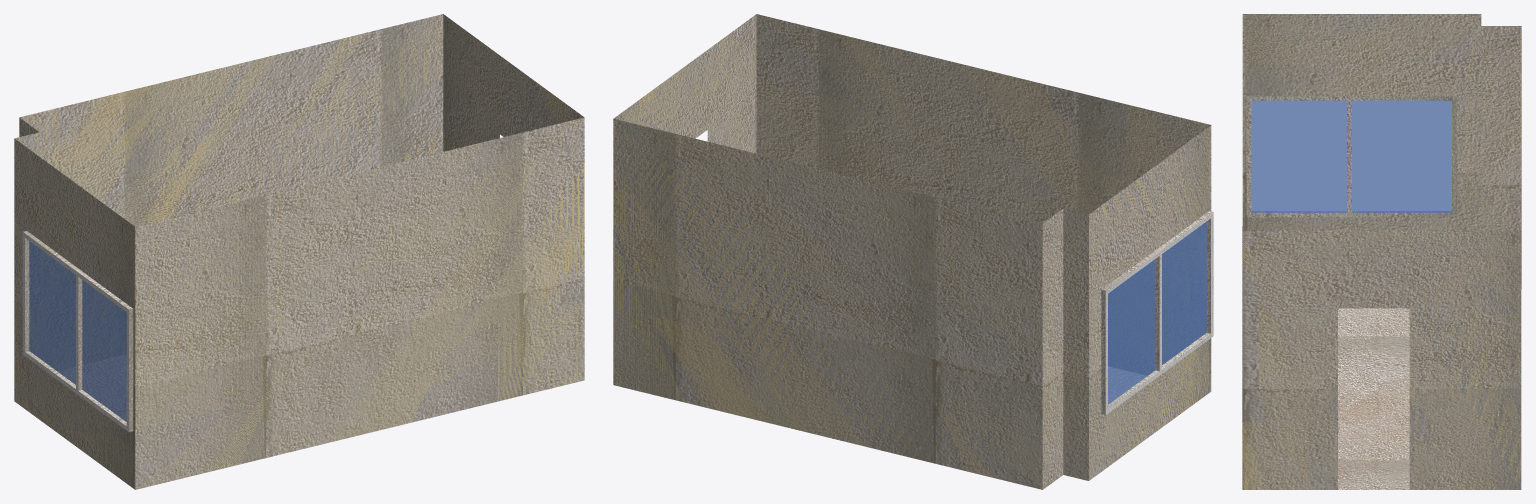
File: DES042.obj
The picture shows the model from 3 angles, left to right: view 1: azimuth 30°, elevation 25°; view 2: azimuth 150°, elevation 25°; view 3: azimuth 270°, elevation 25°; orthographic projection. The views are drawn at different scales.
Parts seen in each view (by area): view 1: Mesh6 DES042 Model, Mesh1 ventana2_1 DES042 Model; view 2: Mesh6 DES042 Model, Mesh1 ventana2_1 DES042 Model; view 3: Mesh6 DES042 Model, Mesh1 ventana2_1 DES042 Model.
Part boxes in pixels (x1,y1,x2,y2): Mesh6 DES042 Model: [14, 14, 584, 489]; Mesh1 ventana2_1 DES042 Model: [22, 231, 133, 432]; Mesh6 DES042 Model: [613, 14, 1211, 489]; Mesh1 ventana2_1 DES042 Model: [1101, 211, 1213, 414]; Mesh6 DES042 Model: [1242, 14, 1521, 489]; Mesh1 ventana2_1 DES042 Model: [1246, 96, 1456, 217].
Size of the model in its own units: 5.41 by 3 by 2.92.
Materials: 6 (2 with a texture image).
